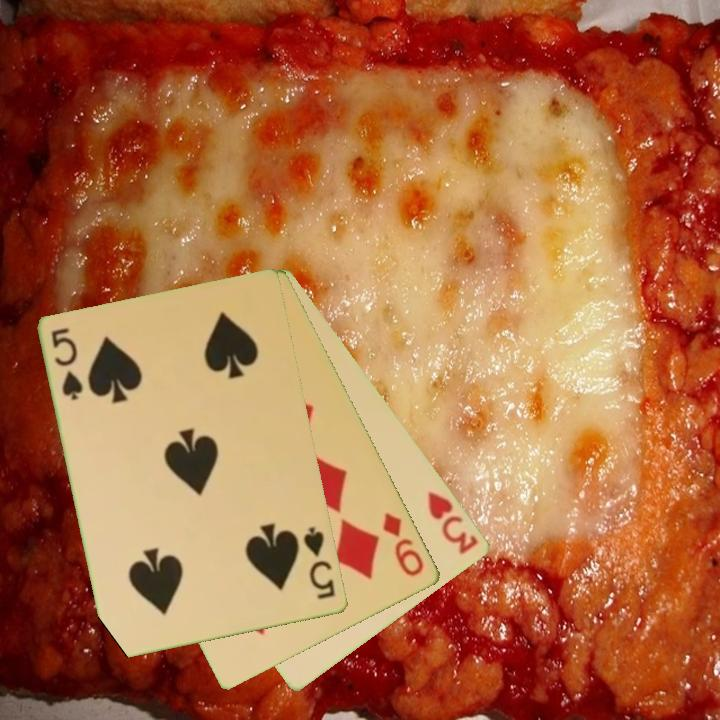3h: (424, 488, 482, 558)
5s: (300, 523, 339, 603), (48, 324, 86, 404)
9d: (379, 509, 427, 580)
